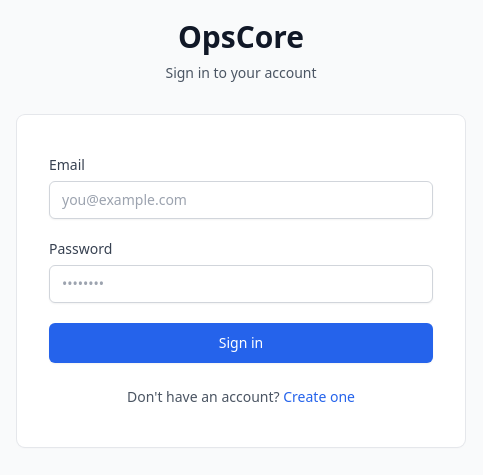
Test: Phase 11.2 Auth Pages Acceptance Tests › Login: validation shows error for invalid email format
The image size is (483, 475).
Type "not-an-email" into the field labelled "Email".
click(241, 200); type("not-an-email")  # box top-left (49, 181), bottom-right (433, 219)
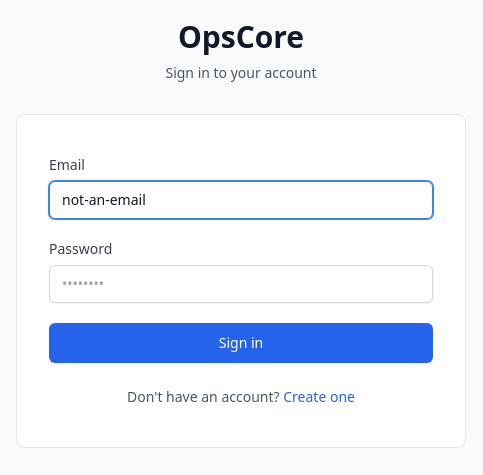
Type "mypassword" into the password field labelled "Password".
click(241, 284); type("mypassword")  # box top-left (49, 265), bottom-right (433, 303)
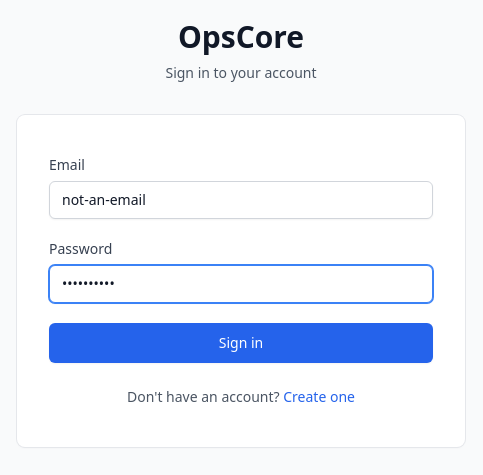
Click the button "Sign in".
click(241, 343)  # box top-left (49, 323), bottom-right (433, 363)
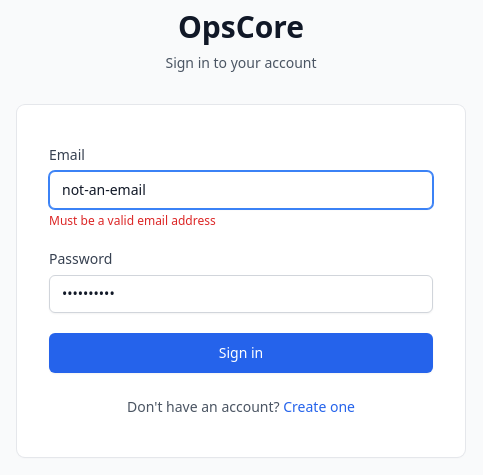
expect the text "Must be a valid email address" is shown: met, box top-left (49, 212), bottom-right (216, 229)
